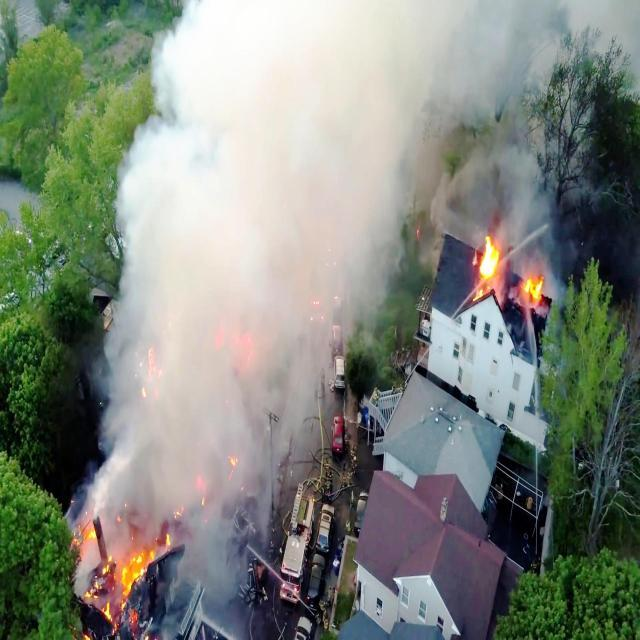Fire: (475, 236, 502, 290), (523, 278, 543, 306)
Smoke: (158, 5, 416, 303)
